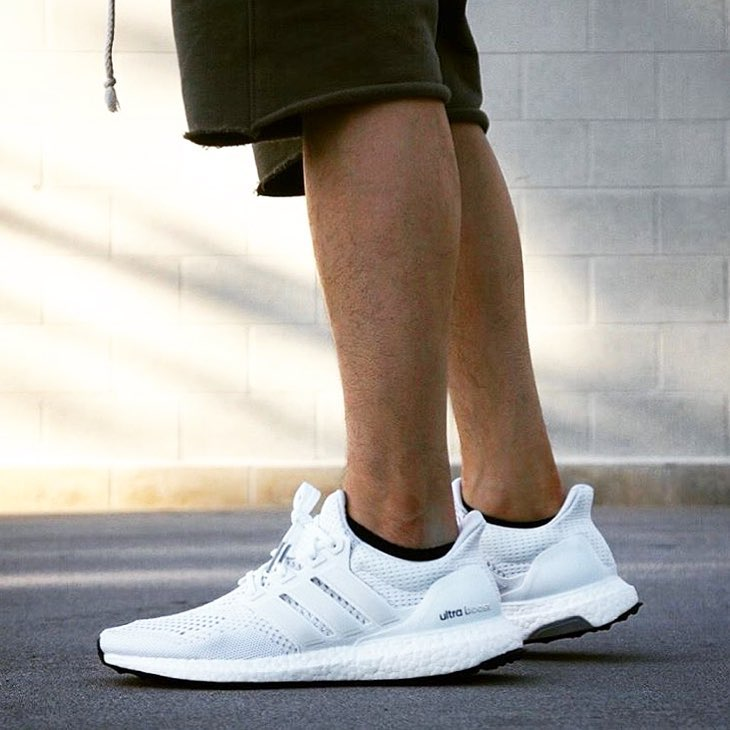sneaker: (79, 443, 543, 702), (413, 427, 666, 659)
